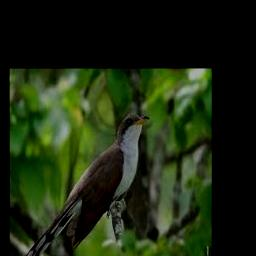Cuckoo: (23, 113, 149, 256)
